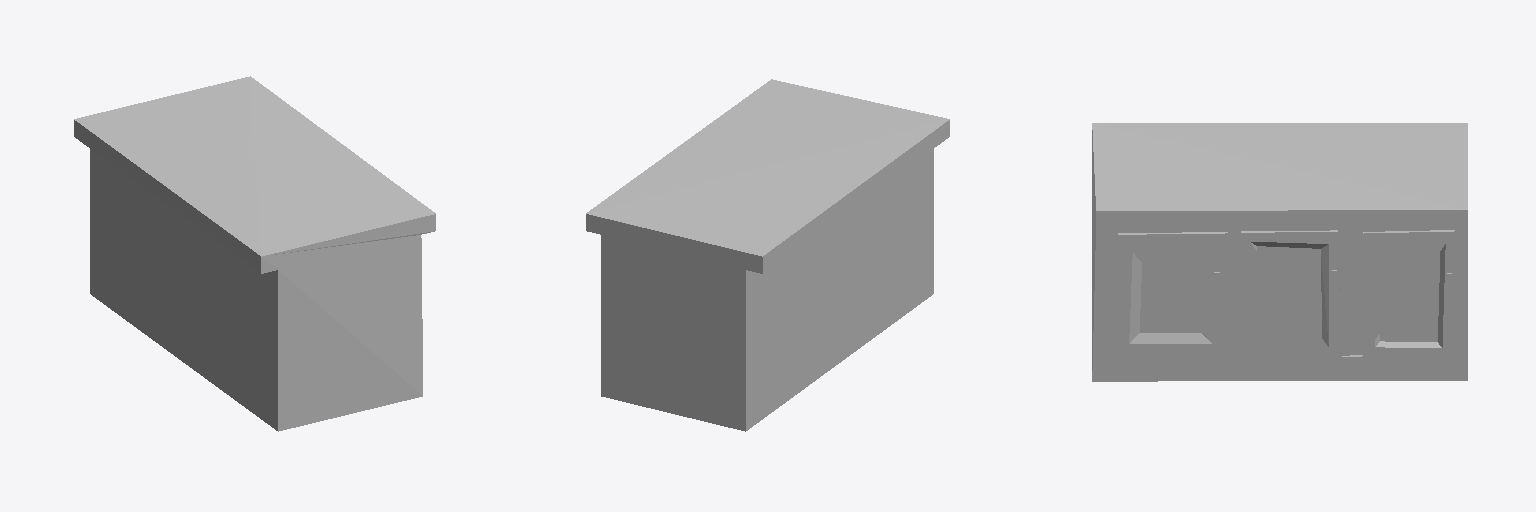
The model's file is Cabinet.obj.
3 views of the same model, side by side, from view 1: azimuth 30°, elevation 25°; view 2: azimuth 150°, elevation 25°; view 3: azimuth 270°, elevation 25° (orthographic).
Parts seen in each view (by area): view 1: Cube; view 2: Cube; view 3: Cube.
Part boxes in pixels (left/top/right/bottom): Cube: left=74, top=76, right=435, bottom=431; Cube: left=586, top=79, right=949, bottom=431; Cube: left=1092, top=123, right=1467, bottom=381.
Size of the model in its own units: 10.53 by 10.18 by 19.34.